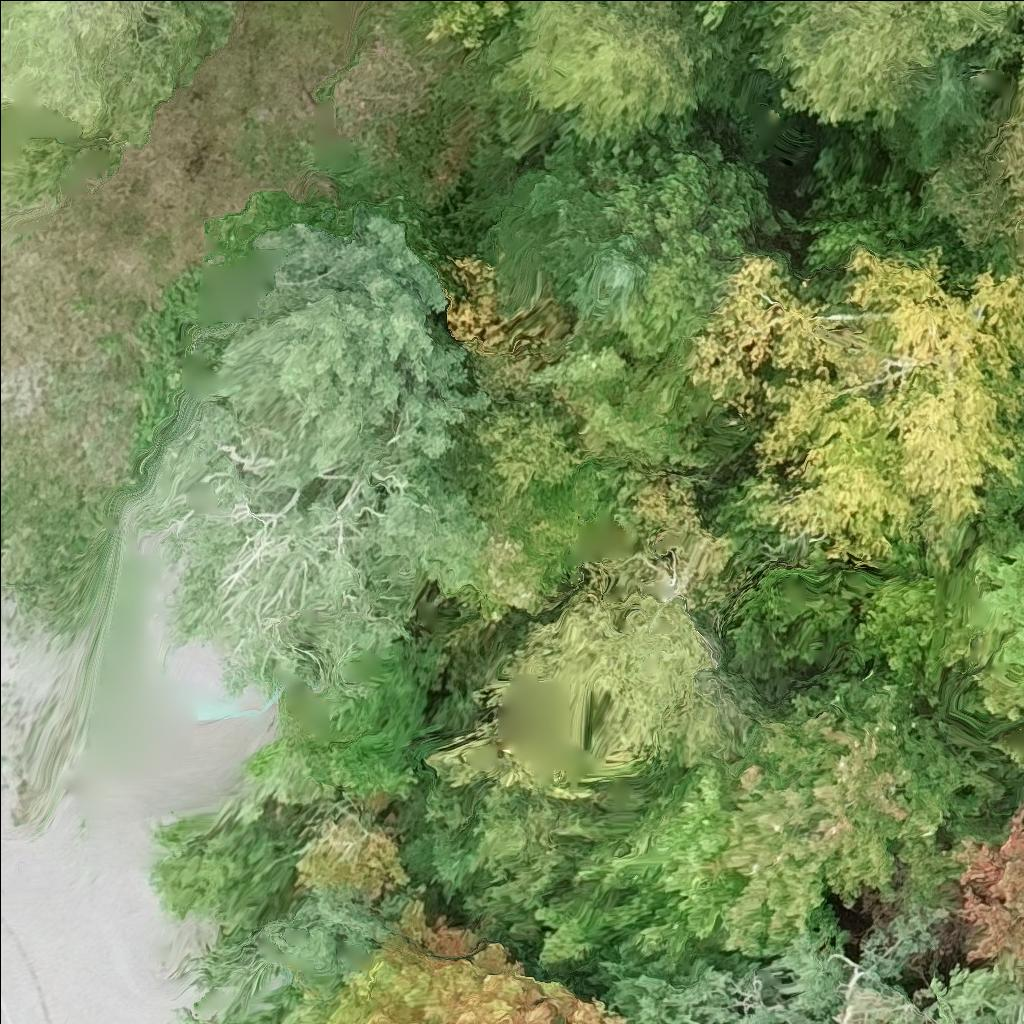crown: (679, 241, 1023, 562), (692, 664, 1006, 958), (504, 482, 760, 773), (592, 141, 780, 365), (464, 128, 655, 330), (485, 0, 742, 143), (0, 0, 238, 151), (752, 0, 983, 132), (932, 480, 1023, 723), (926, 80, 1023, 274), (850, 572, 960, 706), (877, 45, 992, 173), (940, 802, 1023, 966), (426, 0, 509, 54), (937, 0, 1023, 28), (1014, 41, 1023, 87), (1015, 7, 1023, 29)
